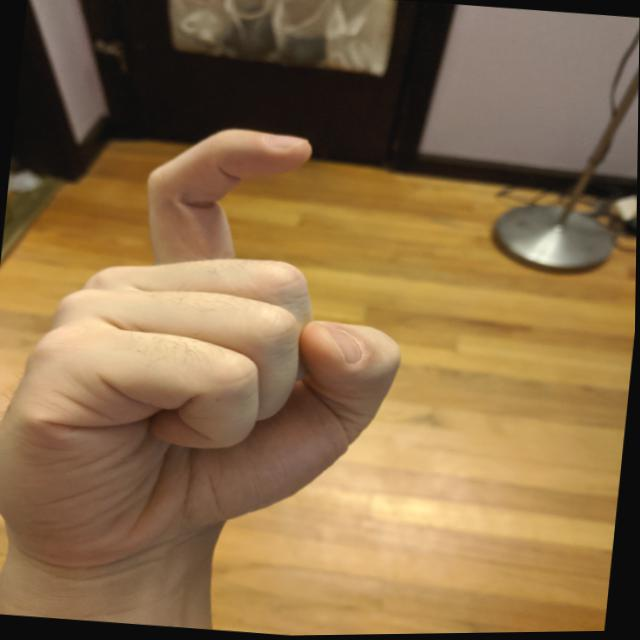X: (0, 101, 433, 577)
